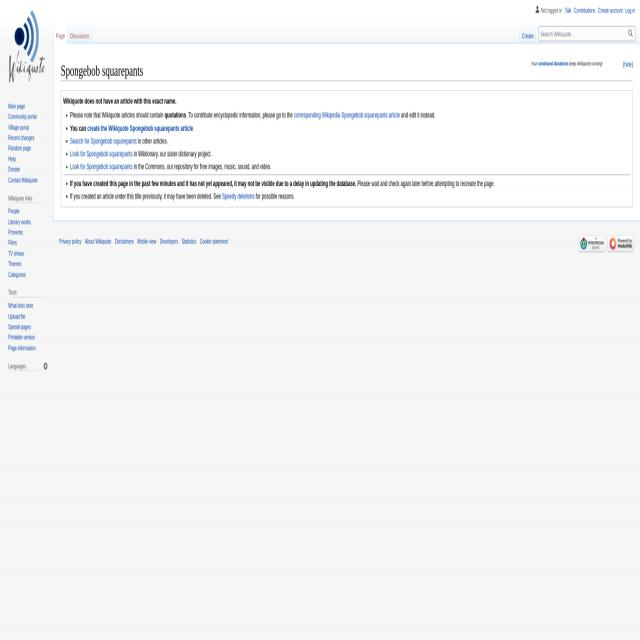button: (2, 0, 51, 88), (606, 235, 634, 254), (579, 235, 605, 252), (54, 22, 68, 44), (627, 27, 635, 41), (43, 362, 48, 371)
field: (539, 25, 635, 41)
